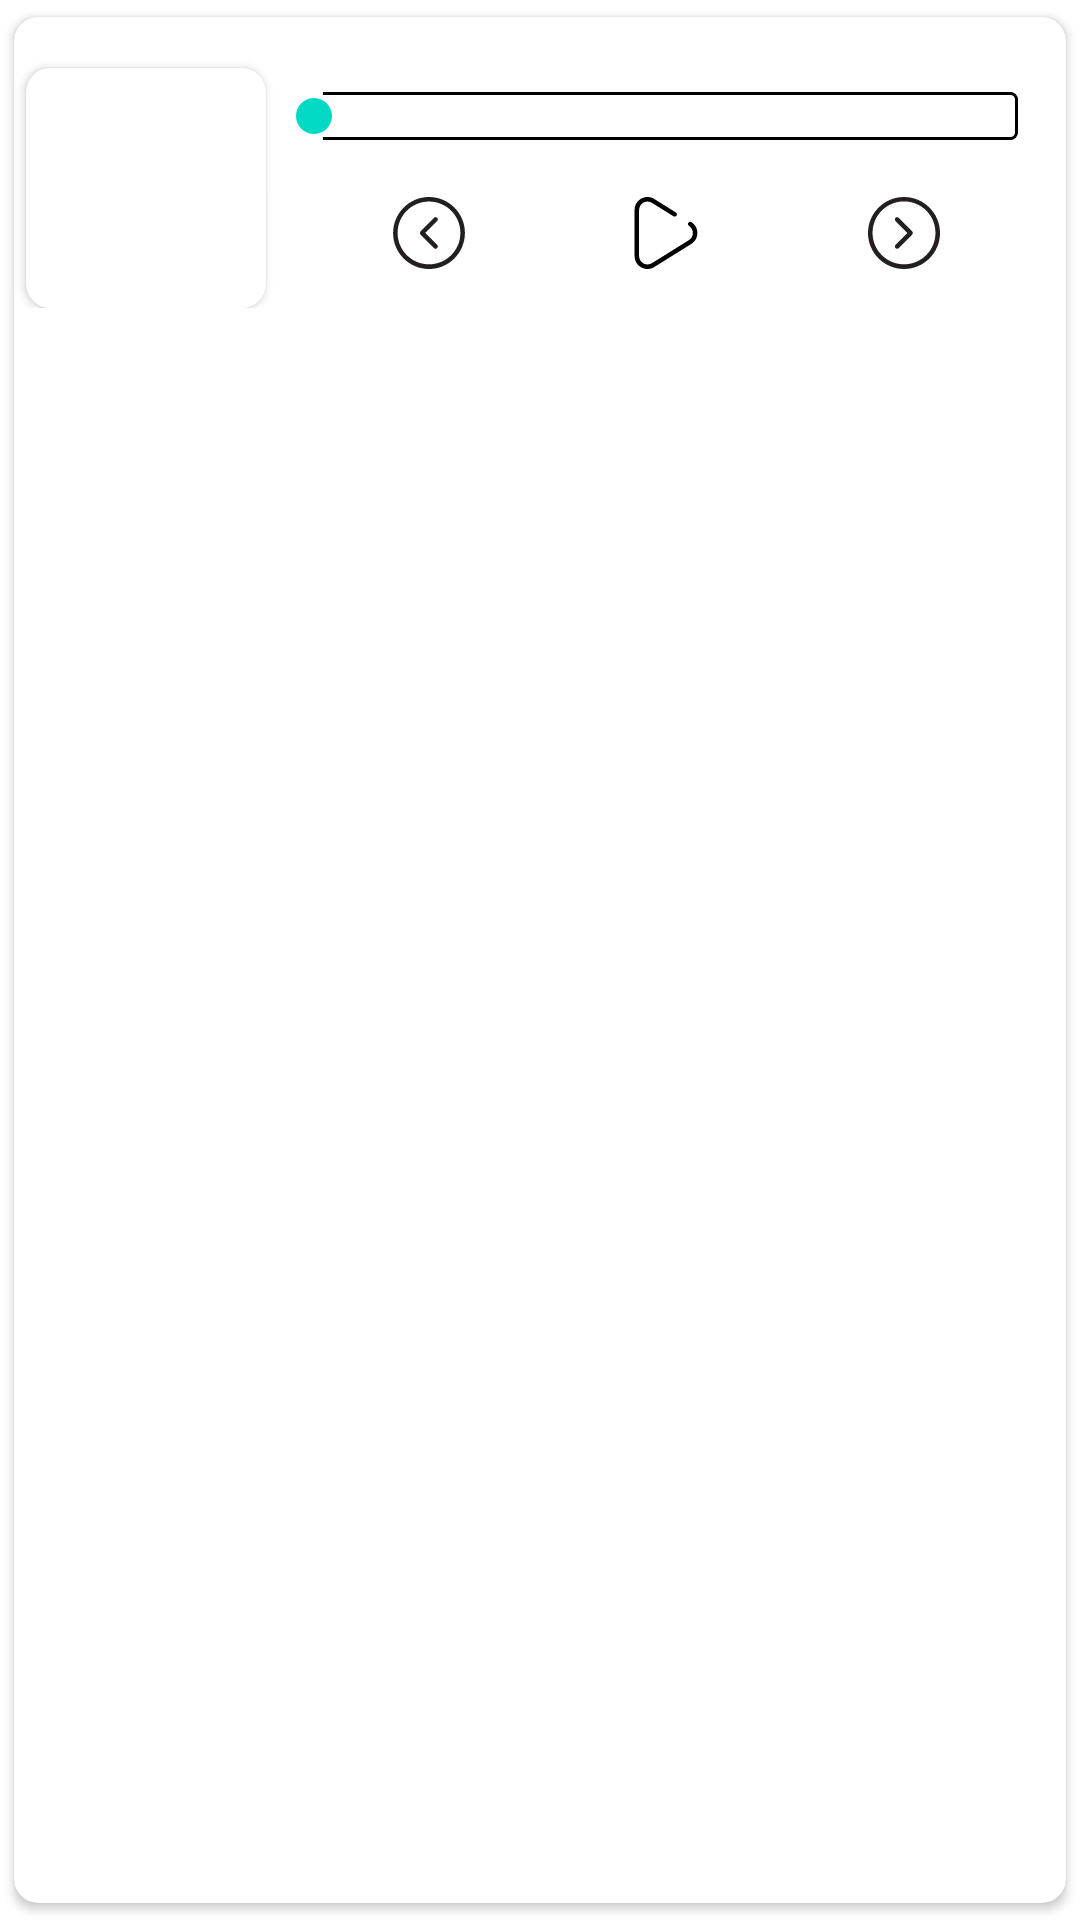

Named icons in this screenshot (1080px x 1920px) and their bounding boxes, (x1, y1, x2, y2):
play: (634, 197, 698, 269)
skip next: (868, 197, 940, 269)
skip previous: (393, 197, 465, 269)
